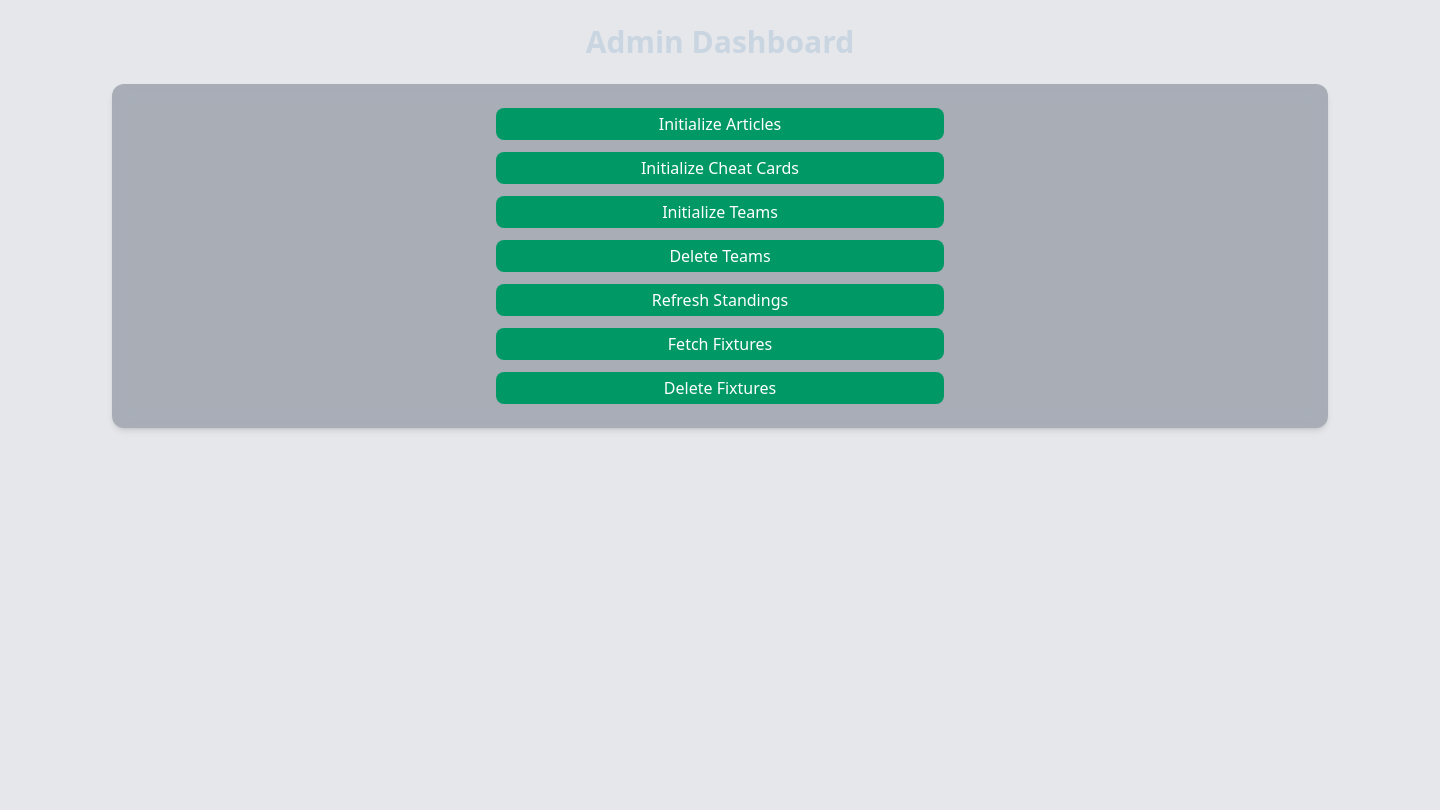
Scenario: AdminPage › confirmation gate › closes the dialog once the action completes
Click the button "Refresh Standings" at [720, 300], box [496, 284, 944, 316]
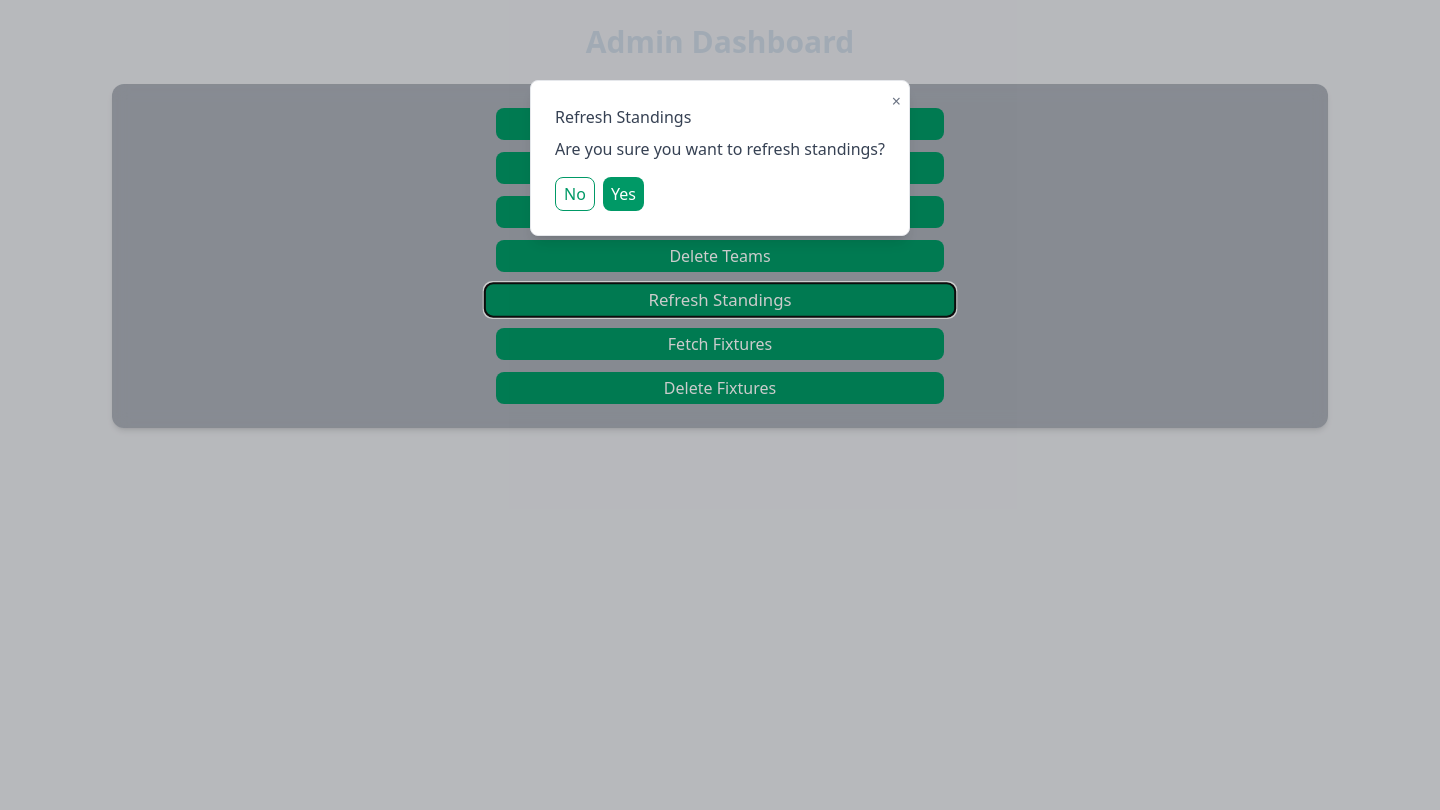
Click the button "Yes" at [623, 194], box [603, 177, 644, 211]
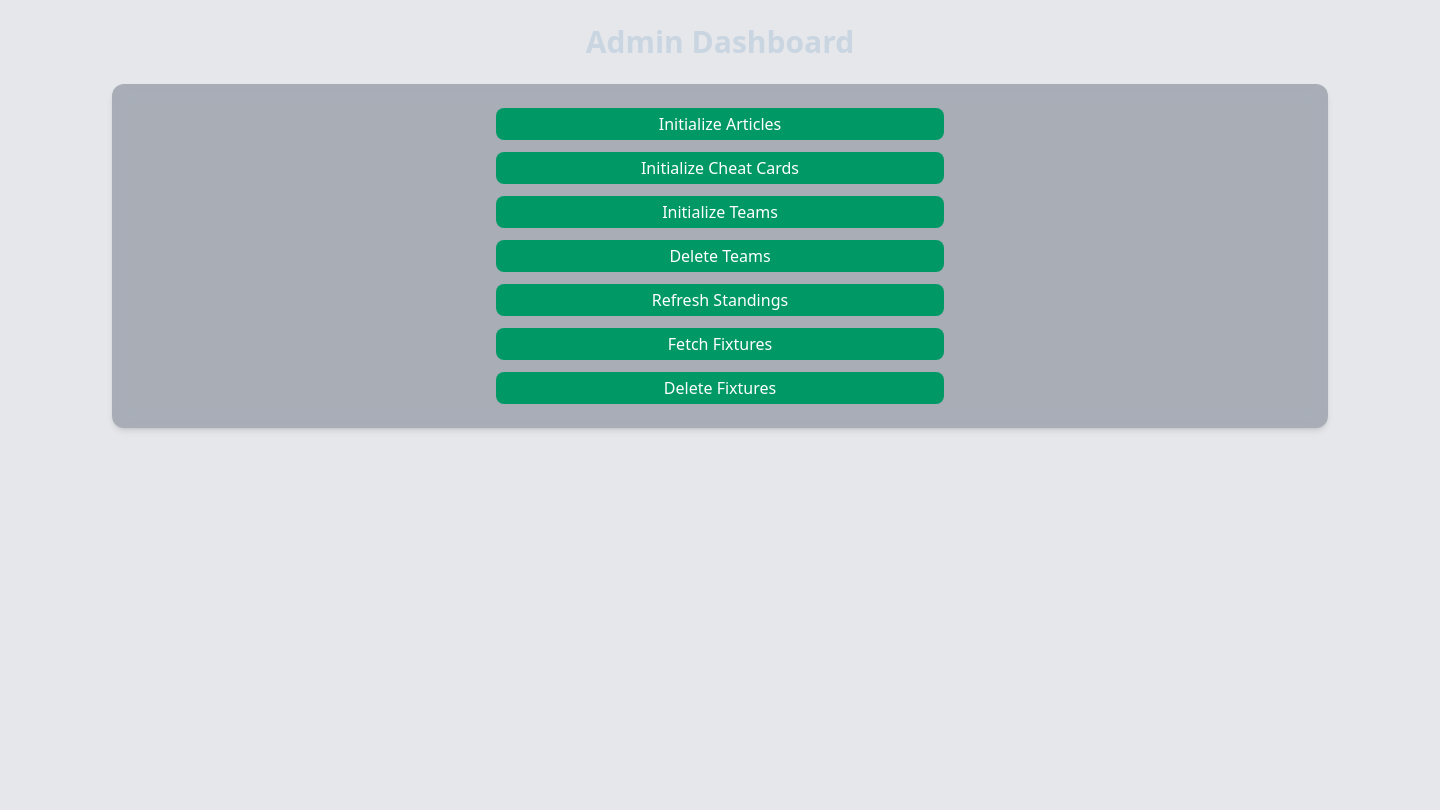
expect the button "Yes" is gone: met
